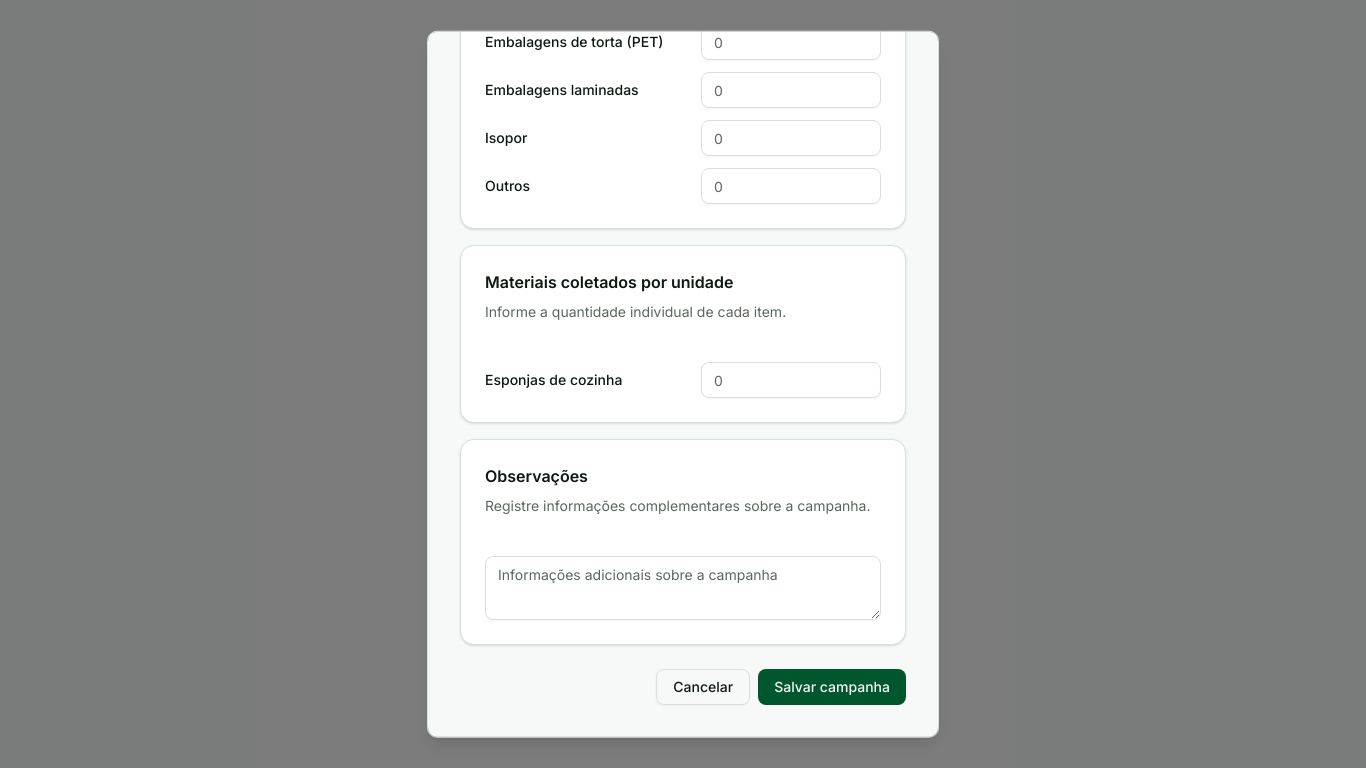
it: formulário de campanha Eco Drive › valida os campos obrigatórios antes de salvar
The width and height of the screenshot is (1366, 768).
(page scrolled)
Click the button "Salvar campanha".
click(832, 687)  # box [758,669,906,705]
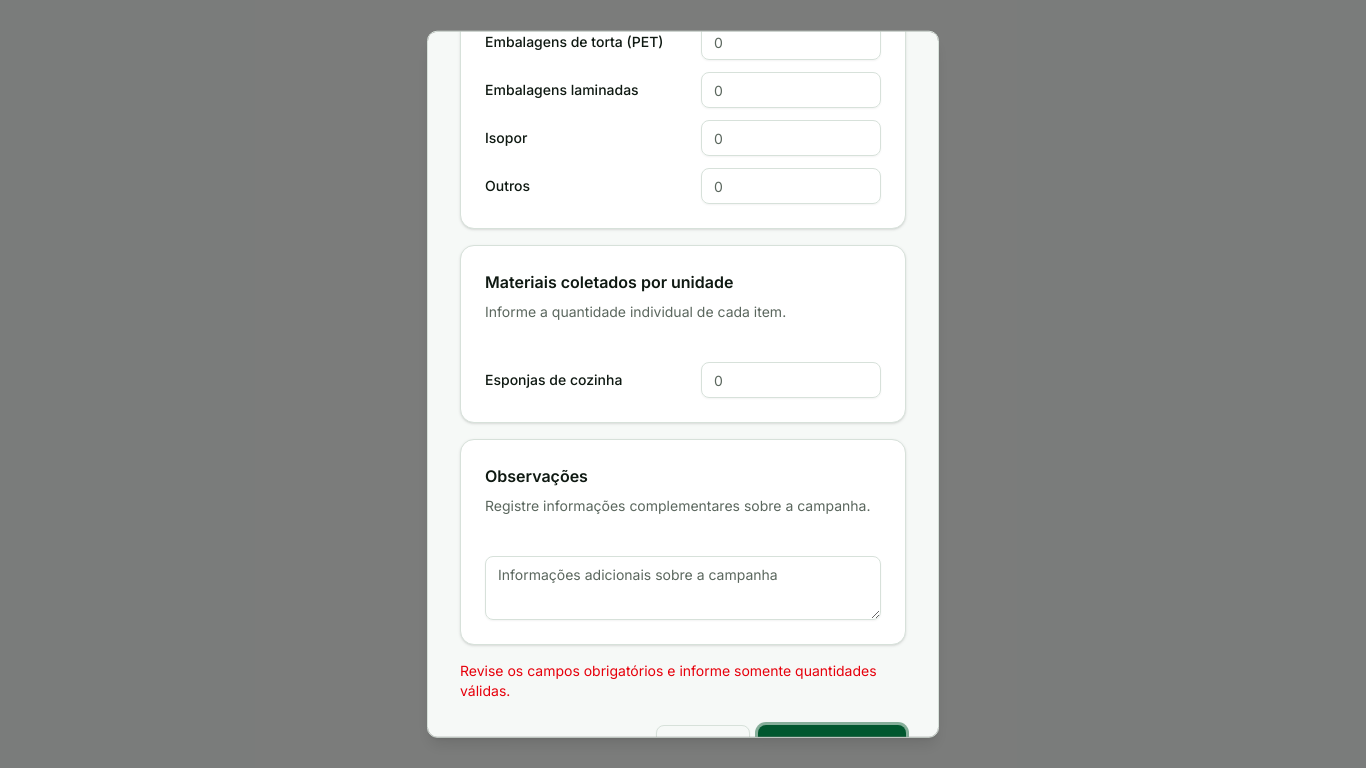
Now the text "Revise os campos obrigatórios" is shown, box [460,662,877,699]
